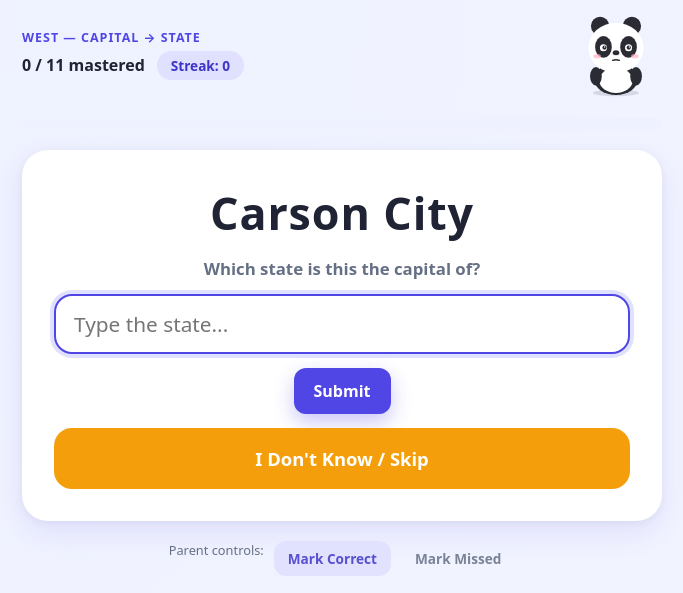
Scenario: QuizScreen parent controls › supports Skip and Mark Correct in Capital to State mode
Click the button "Mark Missed" at (458, 558), box [401, 541, 515, 576]
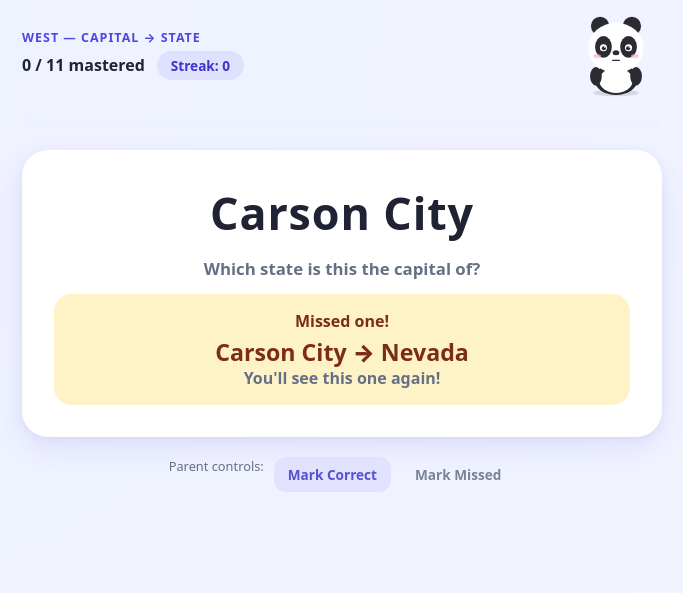
Expected: the text "You'll see this one again!" is shown, [244, 367, 440, 389]
